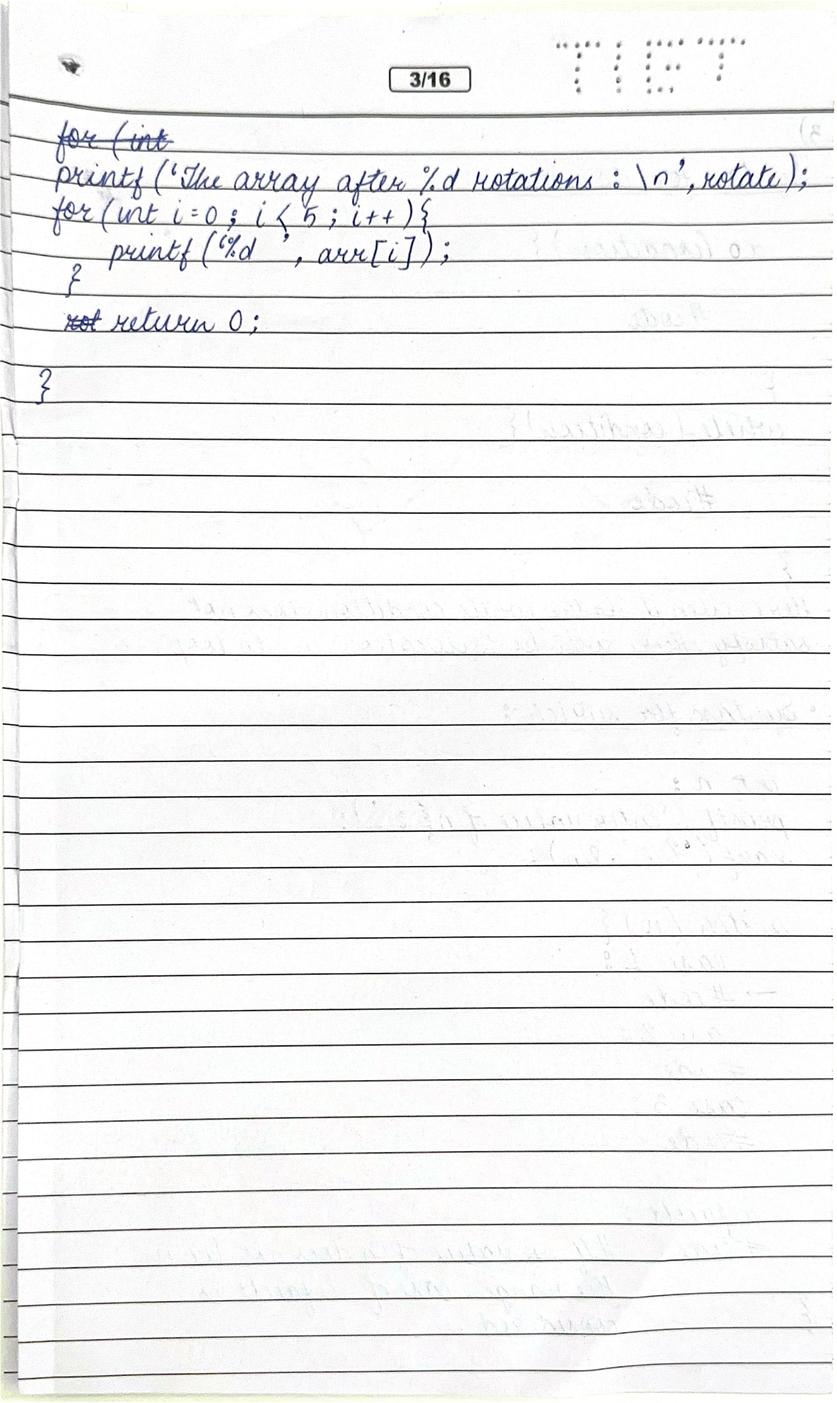cuttings: (46, 115, 175, 166), (62, 307, 106, 335)
